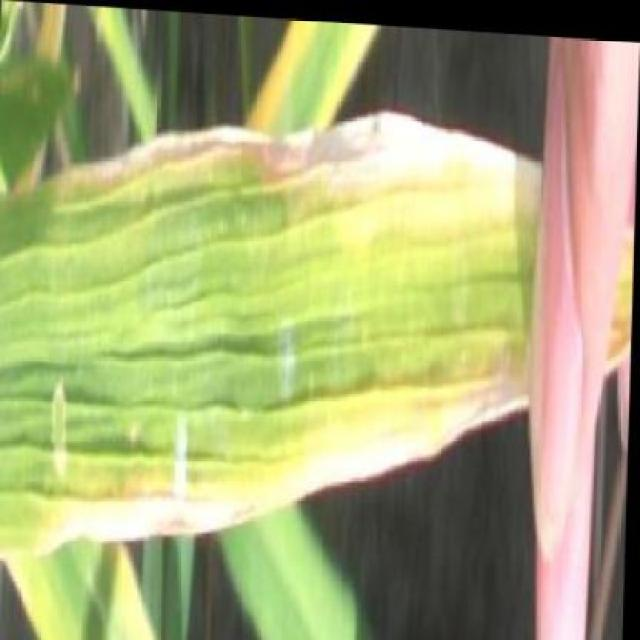Brown_Spot: (0, 92, 540, 516)
